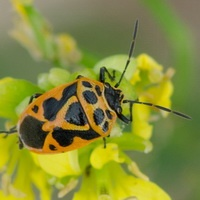insect: (0, 20, 190, 179)
